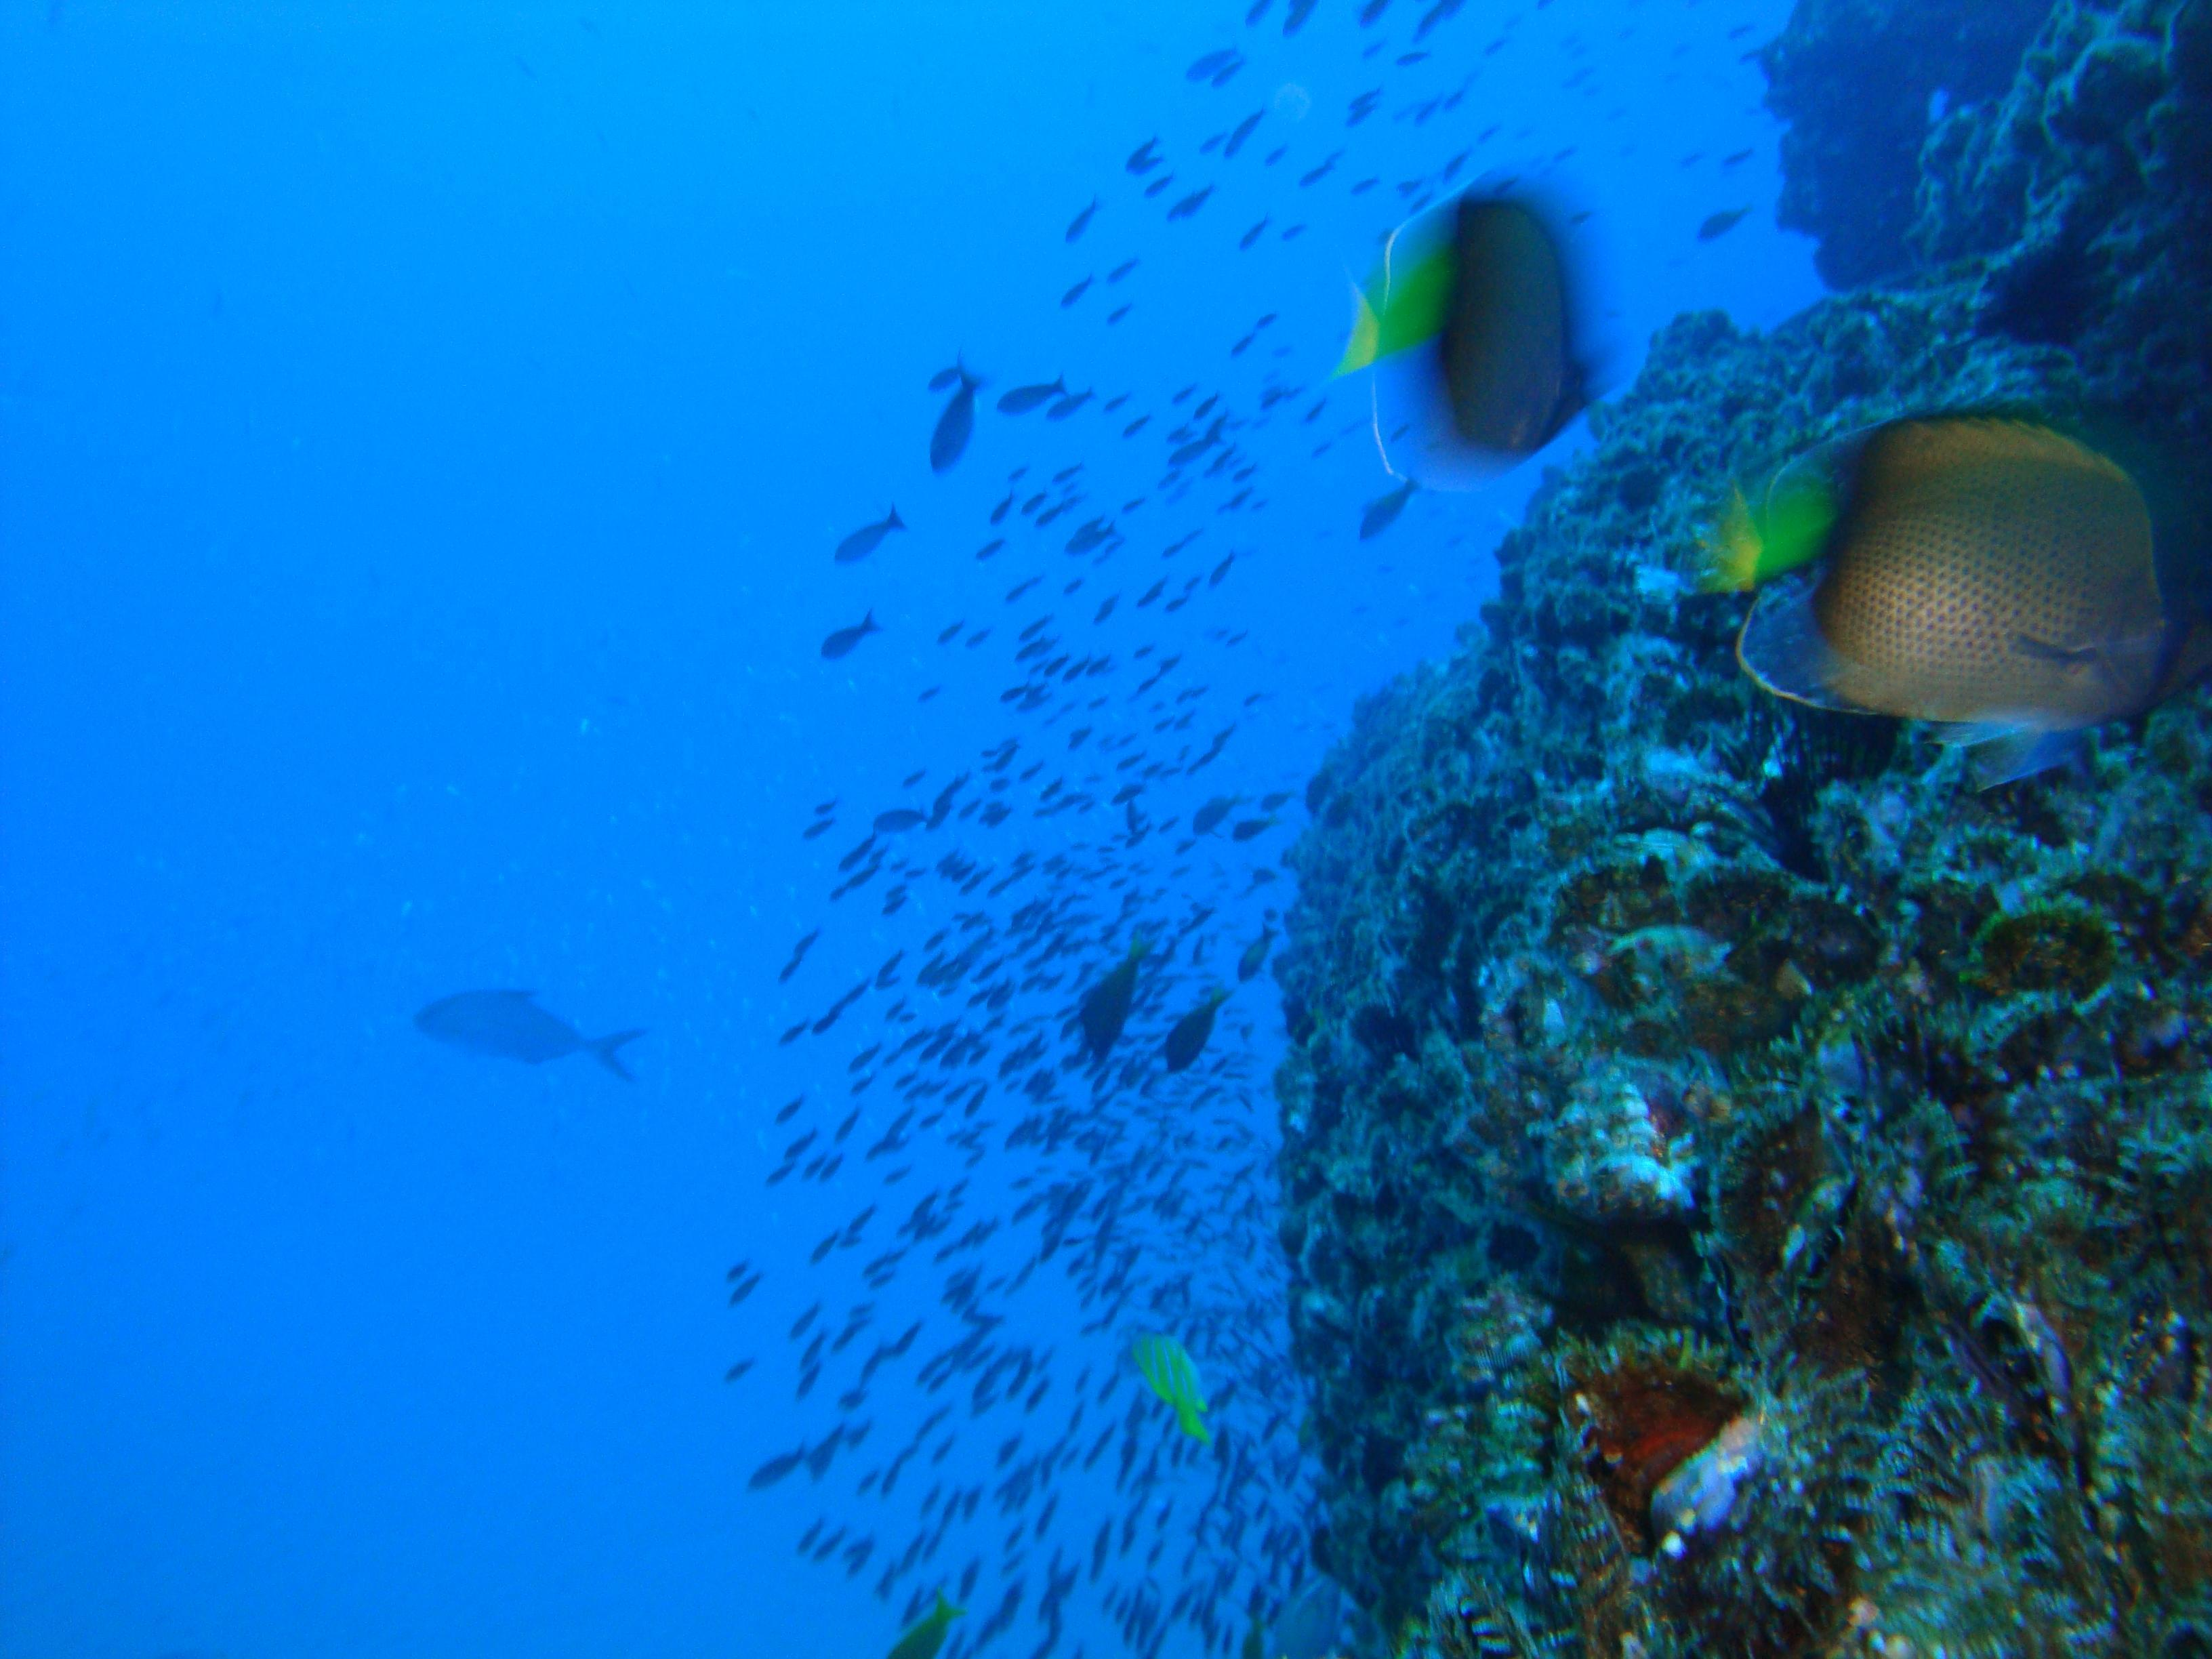Fish: (1712, 390, 2212, 798), (1312, 176, 1655, 504)
